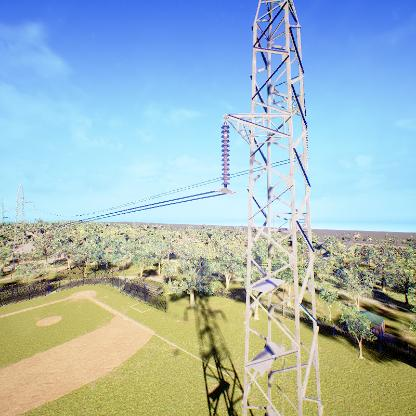insulator: (220, 123, 231, 190)
